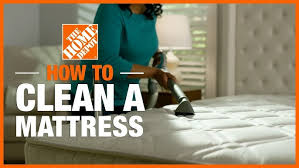bed-matress: (20, 93, 299, 168)
